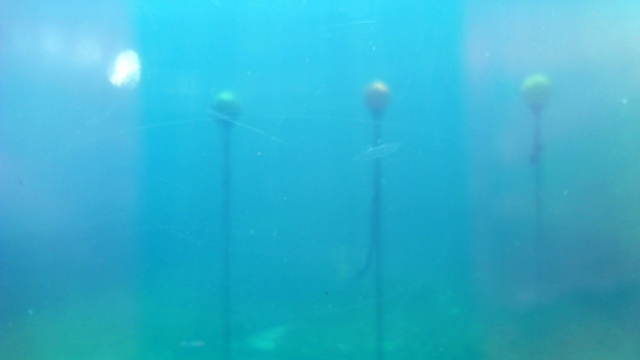buoy_green: (211, 88, 245, 130)
buoy_red: (365, 82, 389, 113)
